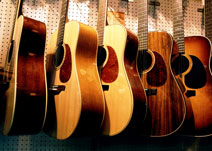guitar: (49, 1, 107, 140), (135, 1, 190, 137), (93, 1, 146, 139), (4, 1, 48, 136), (169, 1, 211, 138)
